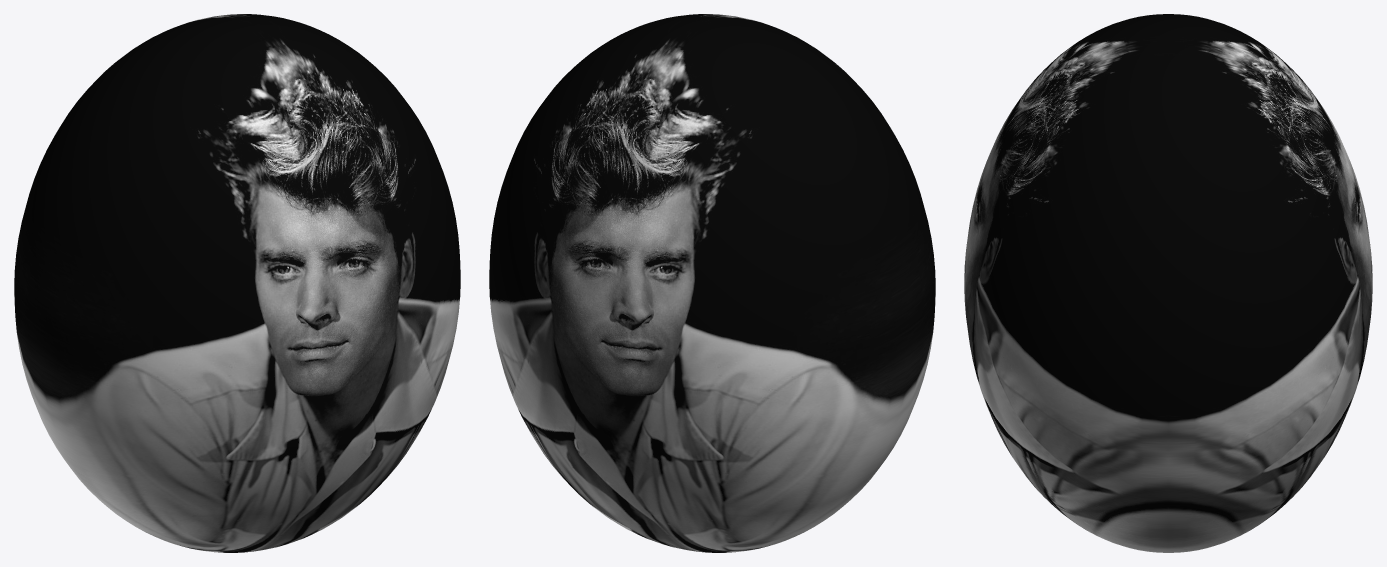
The model's file is burt-lancaster.glb.
The picture shows the model from 3 angles, left to right: view 1: azimuth 30°, elevation 25°; view 2: azimuth 150°, elevation 25°; view 3: azimuth 270°, elevation 25°; orthographic projection.
Visible parts, largest first — view 1: head; view 2: head; view 3: head.
Part boxes in pixels (x1,y1,x2,y2): head: (14, 14, 460, 552); head: (489, 14, 935, 552); head: (964, 14, 1372, 552).
Size of the model in its own units: 1.63 by 2 by 1.47.
Materials: 1 (1 with a texture image).
